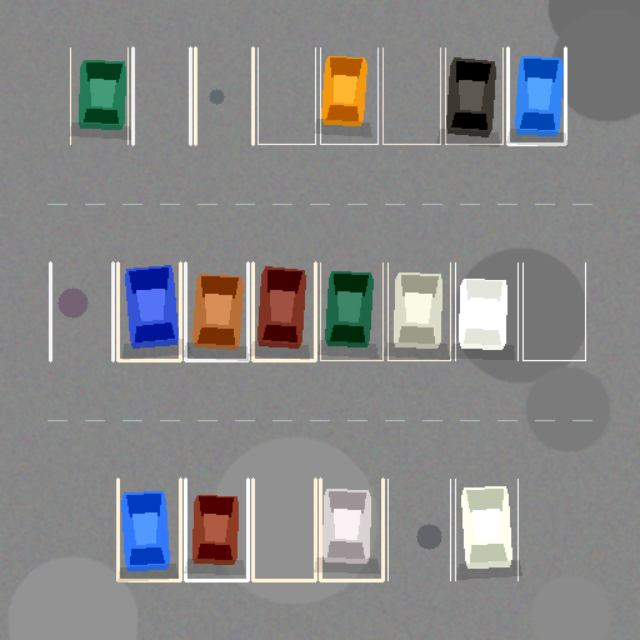space-empty: (252, 479, 315, 580), (388, 479, 450, 580), (522, 262, 585, 360), (50, 262, 112, 360), (132, 47, 190, 144), (382, 47, 440, 144), (195, 47, 252, 144), (258, 47, 315, 144)
space-occupied: (185, 479, 248, 580), (455, 479, 518, 580), (118, 479, 180, 580), (320, 479, 382, 580), (185, 262, 248, 360), (252, 262, 315, 360), (455, 262, 518, 360), (118, 262, 180, 360), (320, 262, 382, 360), (388, 262, 450, 360), (70, 47, 128, 144), (320, 47, 378, 144), (445, 47, 502, 144), (508, 47, 565, 144)
